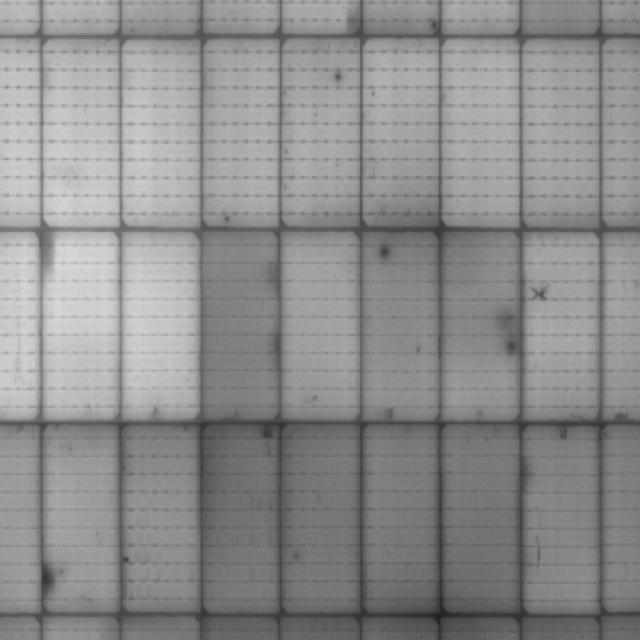CRACK: (521, 273, 559, 319)
